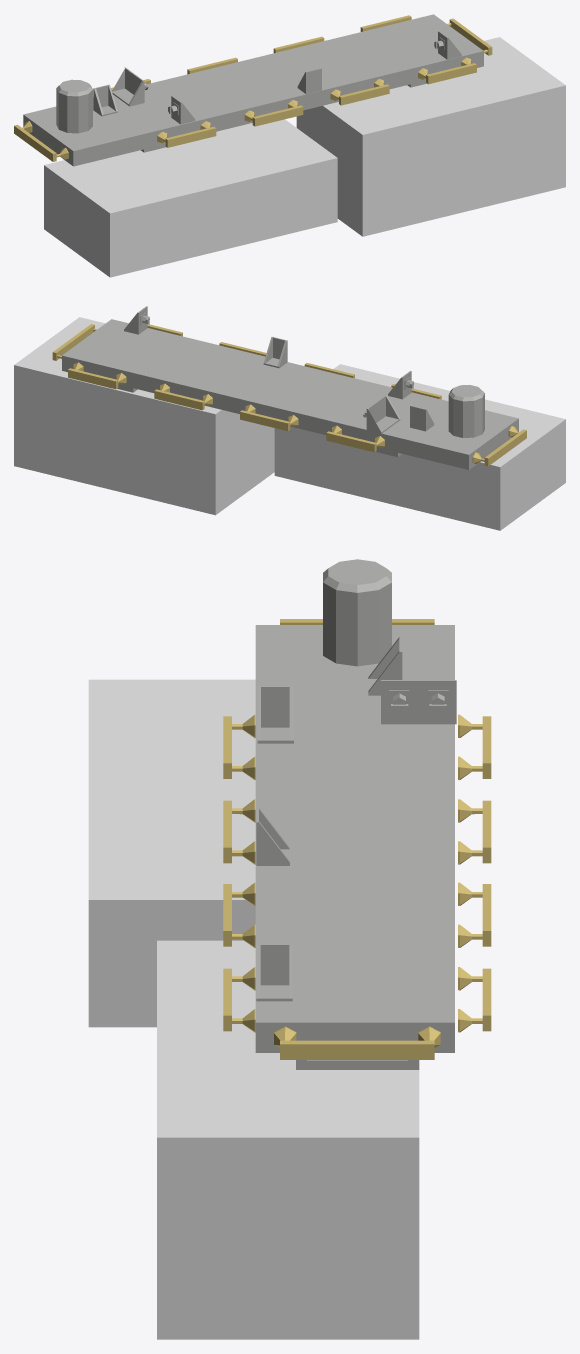
The model's file is ESP1.glb.
3 renders of one model, top to bottom at view 1: azimuth 30°, elevation 25°; view 2: azimuth 150°, elevation 25°; view 3: azimuth 270°, elevation 25°, orthographic. The views are drawn at different scales.
Visible parts, largest first — view 1: Layer_0; view 2: Layer_0; view 3: Layer_0.
Boxes of the visible parts, left/top/right/bottom form: Layer_0: left=14, top=14, right=565, bottom=277; Layer_0: left=14, top=306, right=565, bottom=530; Layer_0: left=88, top=559, right=491, bottom=1339.
Size of the model in its own units: 98.94 by 33.68 by 36.05.
